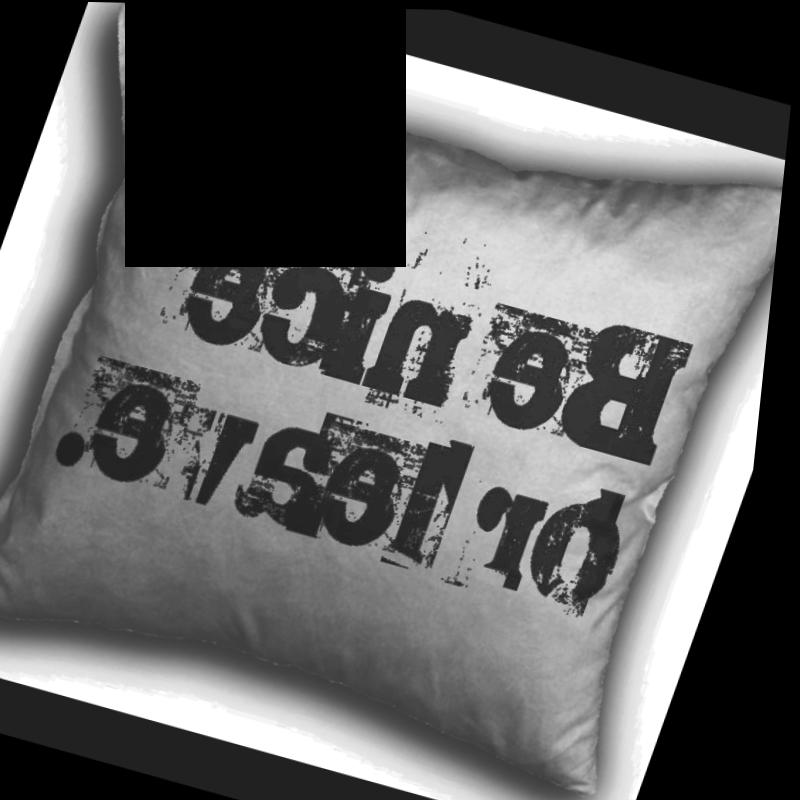pillow: (0, 2, 800, 795)
